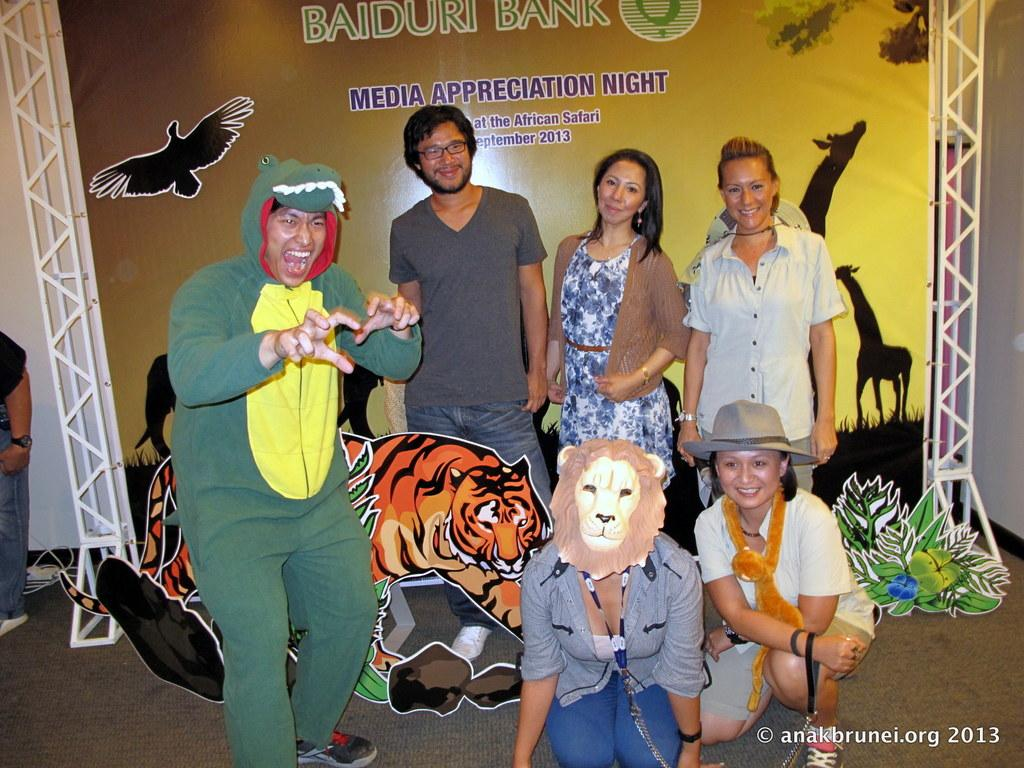Hat: (680, 398, 814, 466)
